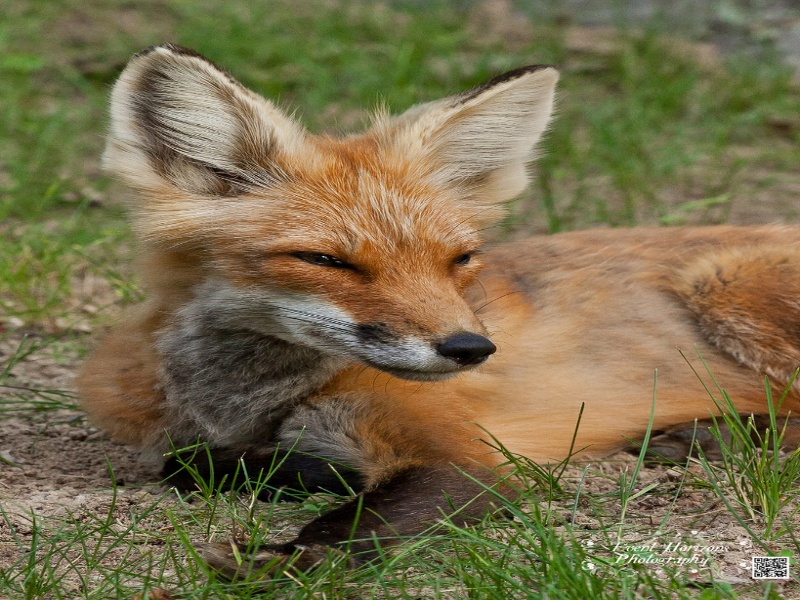fox: (93, 41, 800, 539)
